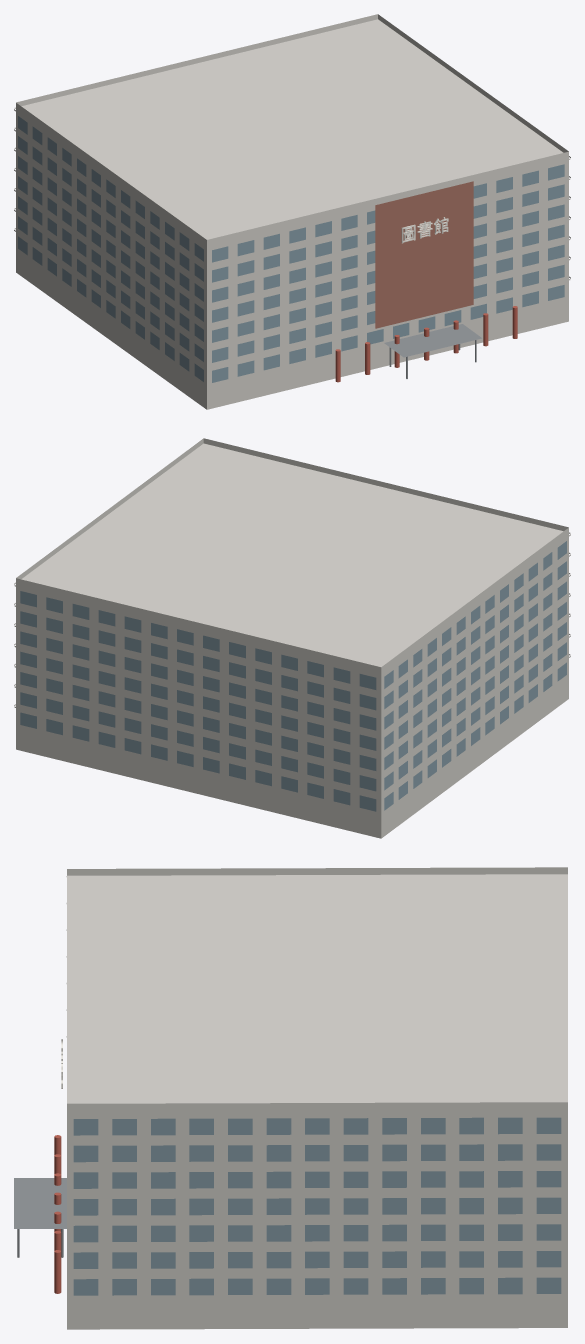
Rendered from library.glb.
The picture shows the model from 3 angles, top to bottom: view 1: azimuth 30°, elevation 25°; view 2: azimuth 150°, elevation 25°; view 3: azimuth 270°, elevation 25°; orthographic projection. The views are drawn at different scales.
Visible parts, largest first — view 1: LIB_body, LIB_windows, LIB_panel, LIB_parapet, LIB_ledges, LIB_canopy, Text; view 2: LIB_body, LIB_windows, LIB_ledges, LIB_parapet; view 3: LIB_body, LIB_windows, LIB_ledges, LIB_parapet, LIB_canopy.
Boxes of the visible parts, x1=… form: LIB_body: x1=16, y1=19, x2=568, y2=409; LIB_windows: x1=18, y1=116, x2=564, y2=382; LIB_panel: x1=375, y1=181, x2=473, y2=328; LIB_parapet: x1=16, y1=14, x2=568, y2=244; LIB_ledges: x1=14, y1=107, x2=570, y2=368; LIB_canopy: x1=384, y1=324, x2=481, y2=378; Text: x1=401, y1=217, x2=448, y2=243; LIB_body: x1=16, y1=443, x2=568, y2=838; LIB_windows: x1=20, y1=541, x2=566, y2=811; LIB_ledges: x1=14, y1=532, x2=570, y2=796; LIB_parapet: x1=16, y1=438, x2=568, y2=672; LIB_body: x1=67, y1=874, x2=567, y2=1329; LIB_windows: x1=73, y1=1117, x2=561, y2=1295; LIB_ledges: x1=66, y1=876, x2=567, y2=1274; LIB_parapet: x1=67, y1=867, x2=567, y2=1110; LIB_canopy: x1=14, y1=1178, x2=66, y2=1257.
Size of the model in its own units: 74.86 by 33 by 73.78.
